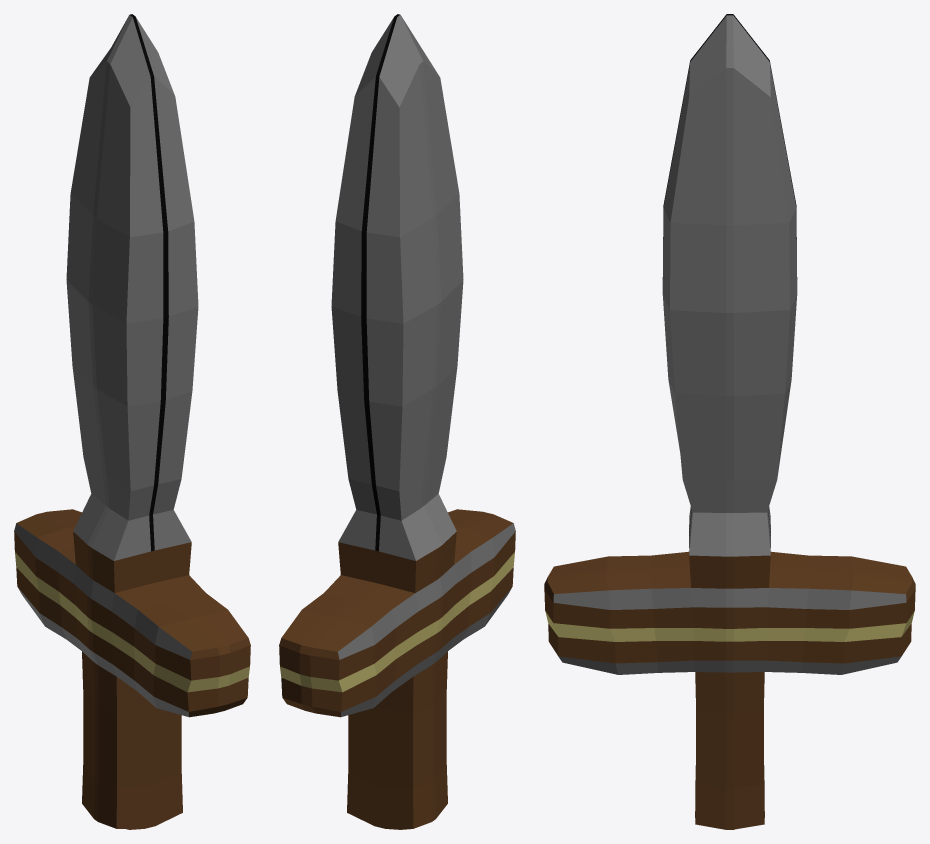
The model's file is sword.fbx.
3 views of the same model, side by side, from view 1: azimuth 30°, elevation 25°; view 2: azimuth 150°, elevation 25°; view 3: azimuth 270°, elevation 25° (orthographic).
Parts seen in each view (by area): view 1: Cube; view 2: Cube; view 3: Cube.
Part boxes in pixels (x1,y1,x2,y2): Cube: (14,14,250,829); Cube: (279,14,515,829); Cube: (544,14,915,829).
Size of the model in its own units: 56.34 by 502 by 208.
